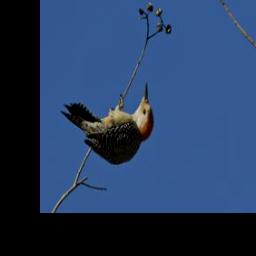Woodpecker: (58, 78, 162, 166)
